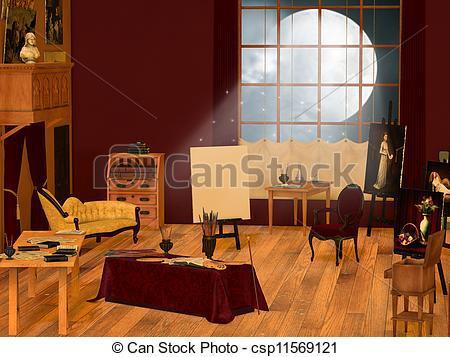chair: (308, 183, 367, 266)
diningtable: (3, 225, 85, 334)
sofa: (32, 187, 148, 241)
